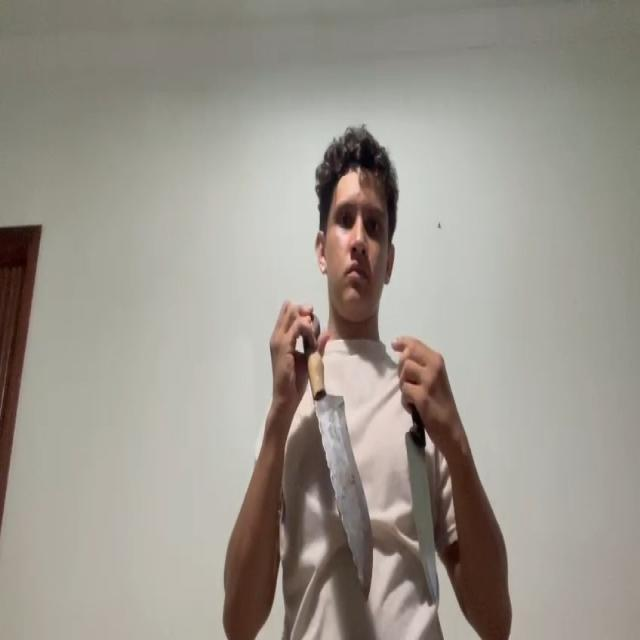knife: (314, 388, 373, 596), (404, 425, 440, 604)
